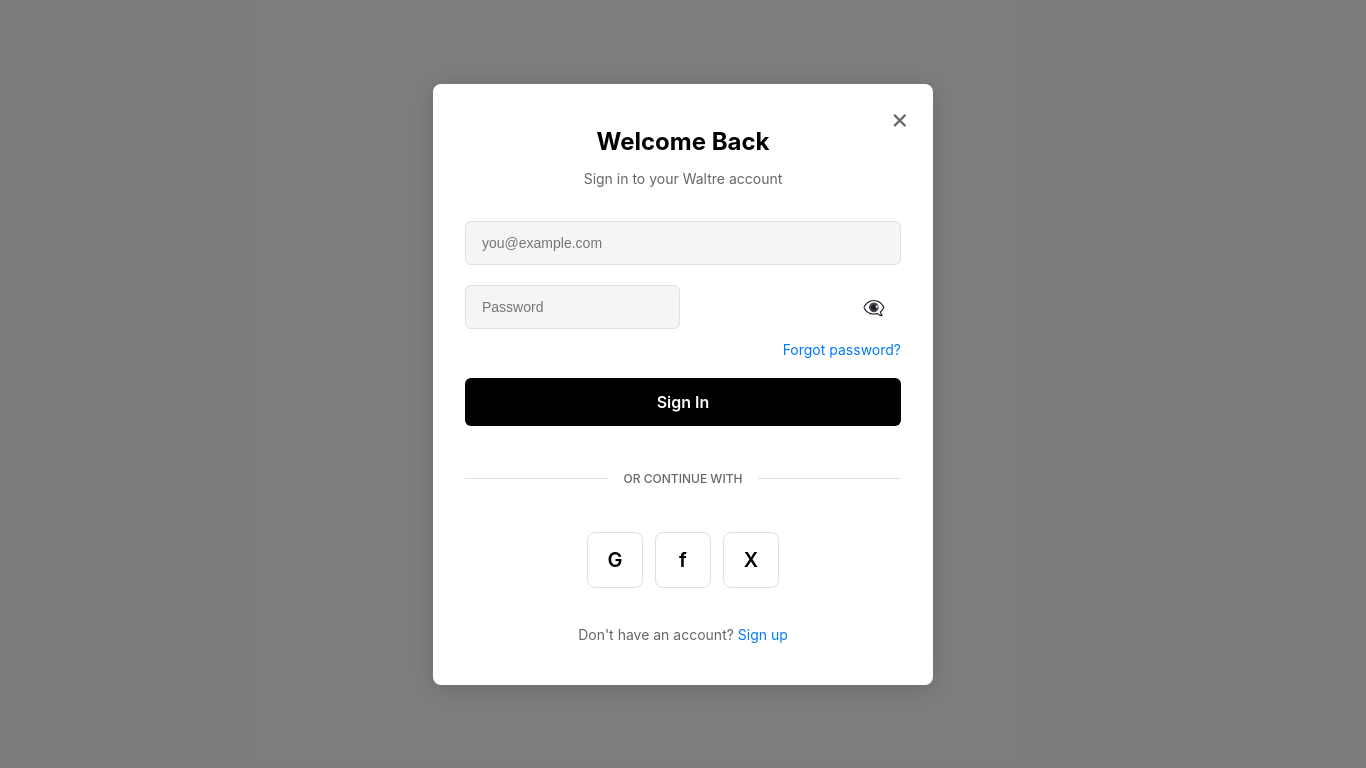
Scenario: Authentication Components › LoginModal › displays validation errors for empty fields
This screenshot has width=1366, height=768.
Click the button "Sign In".
click(683, 402)  # box [465, 378, 901, 426]
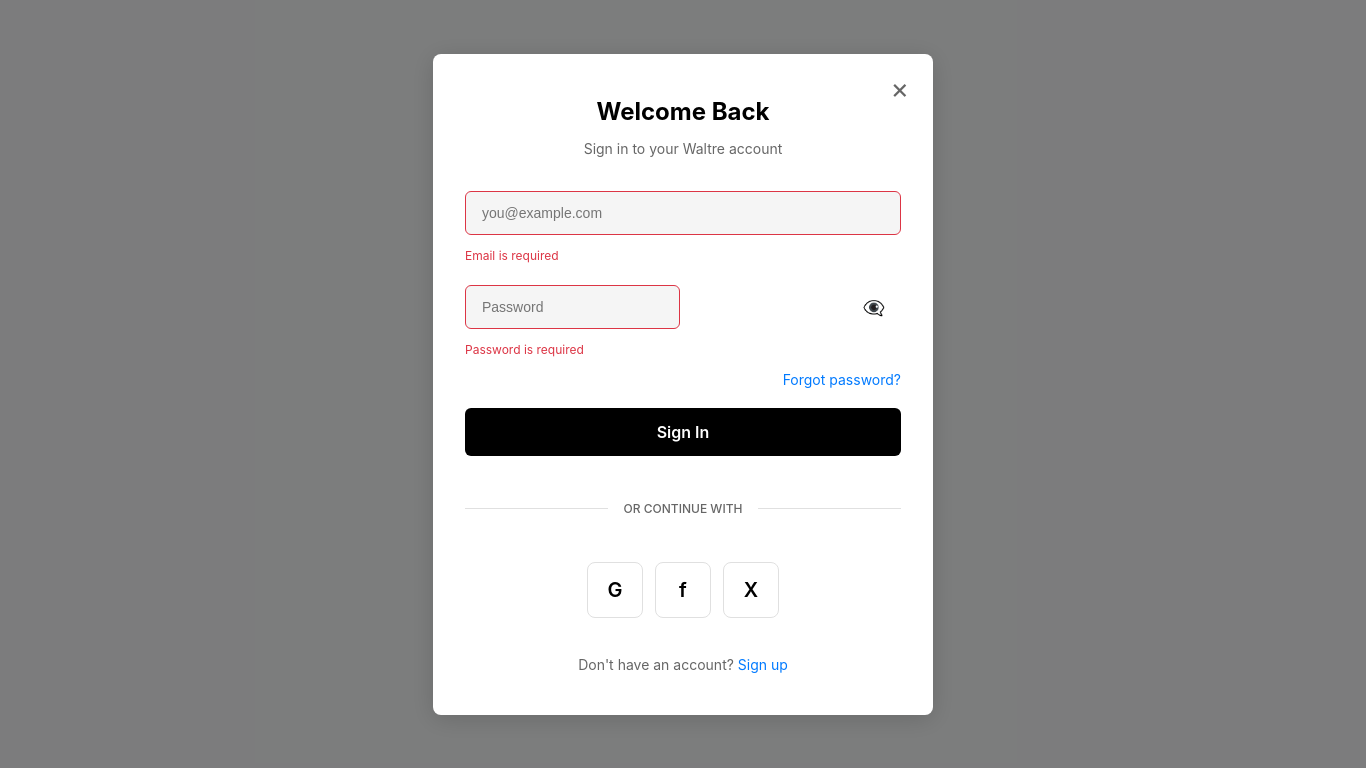
Expected: the text "Email is required" is shown, [465, 248, 559, 262]
Expected: the text "Password is required" is shown, [465, 342, 584, 356]
